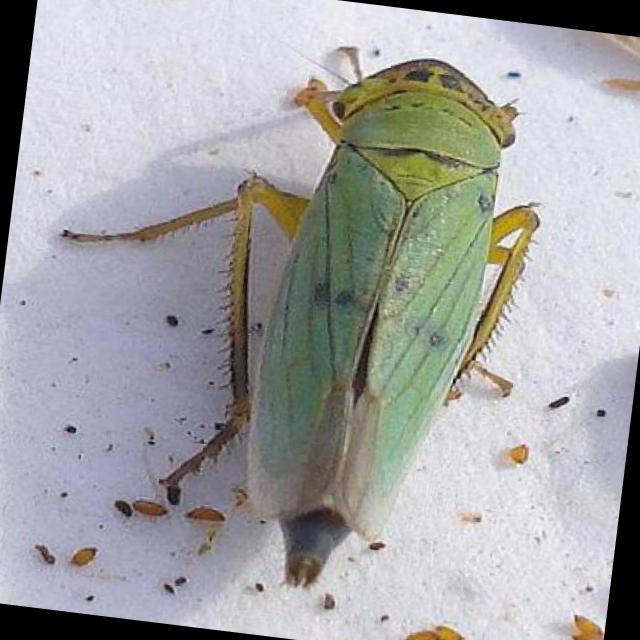green-leafhopper: (187, 39, 540, 595)
